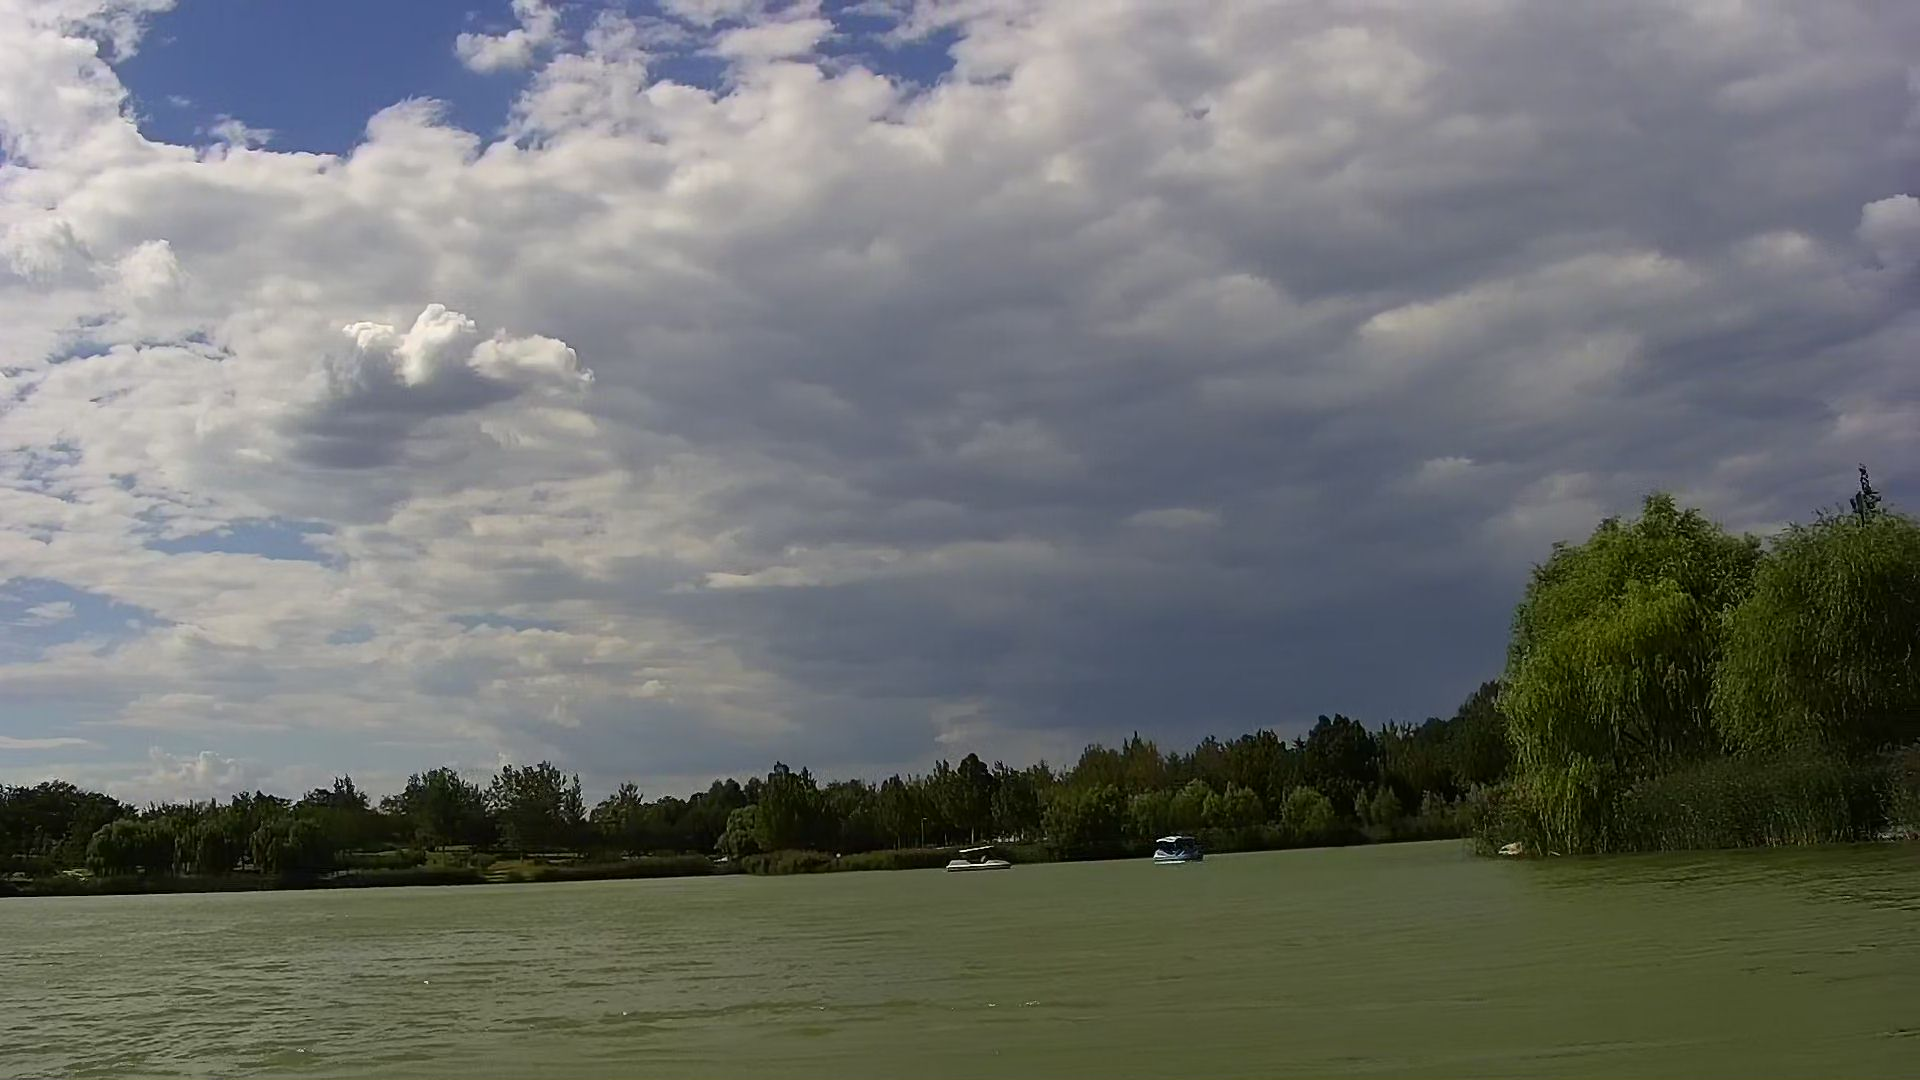boat: (944, 847, 1015, 877), (1153, 832, 1207, 866)
rock: (1499, 841, 1528, 858)
